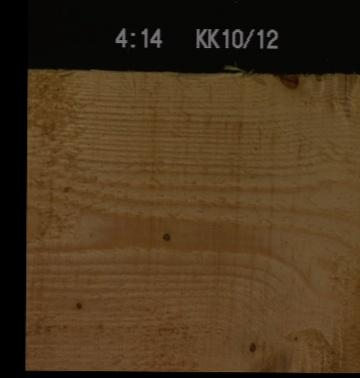dry_knot: (72, 295, 84, 312), (158, 228, 171, 243), (245, 338, 256, 353)
